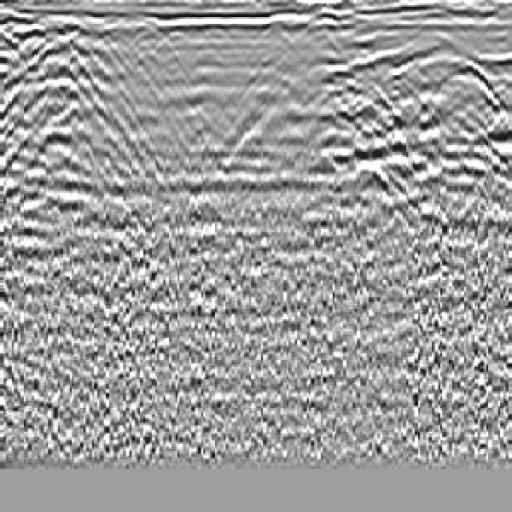non-metallic: (343, 44, 512, 241)
